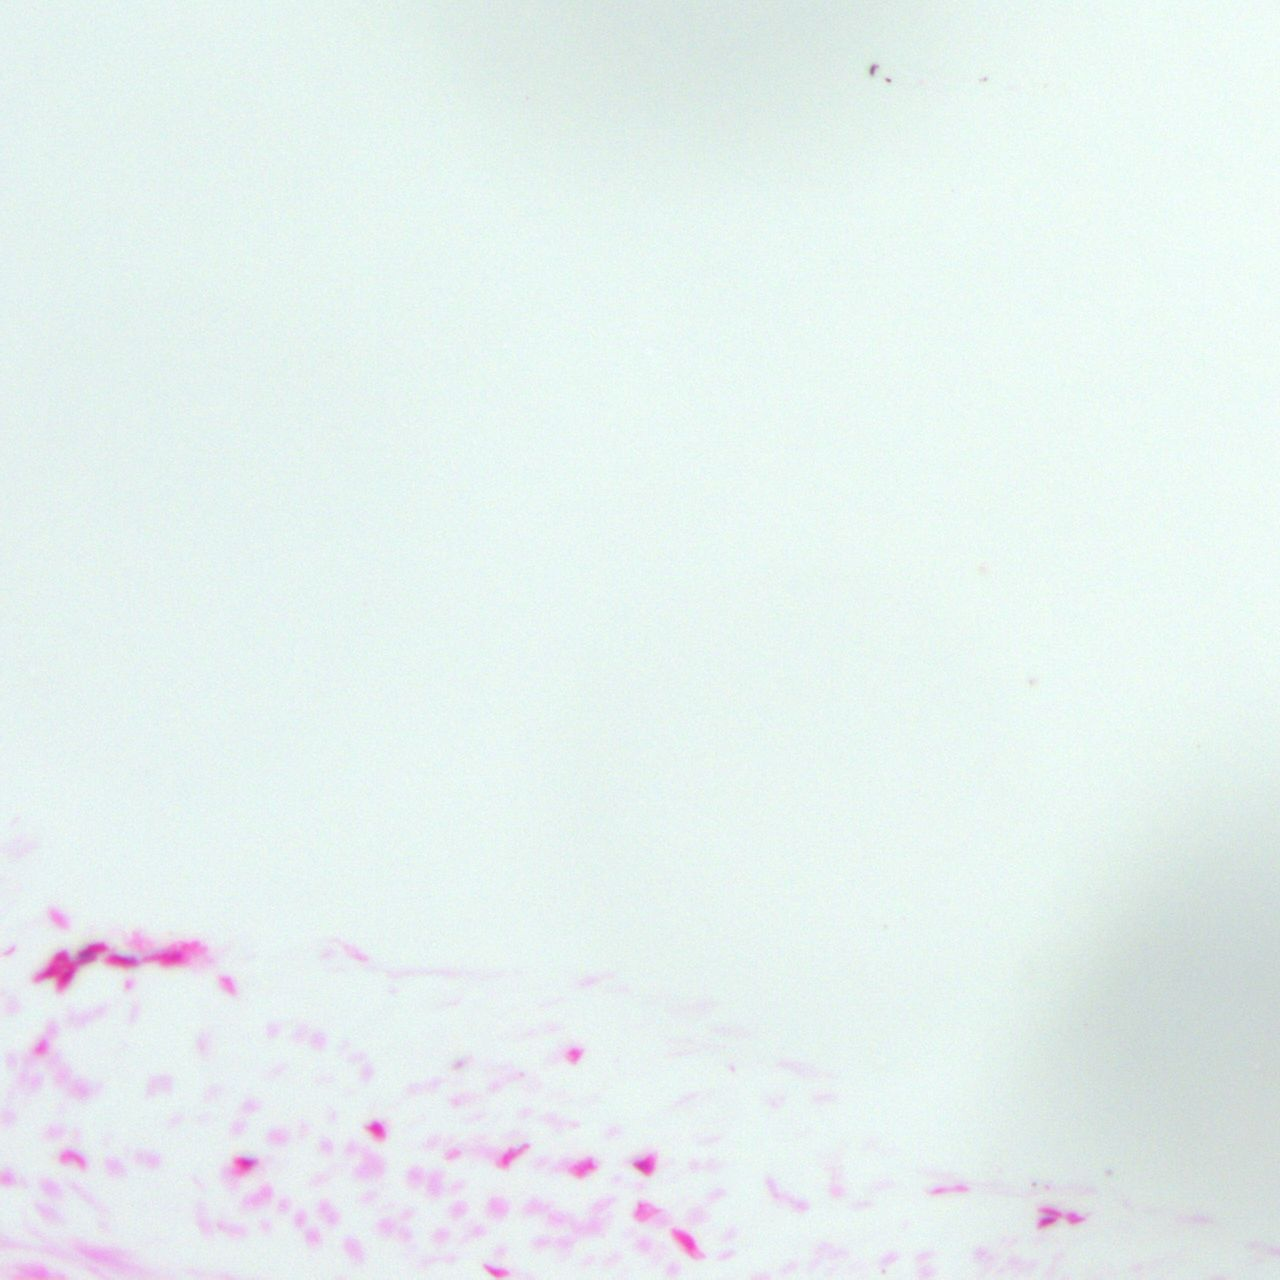dust: (867, 64, 878, 77), (978, 76, 988, 83), (1105, 1169, 1113, 1176), (885, 77, 892, 83), (1029, 1182, 1037, 1186)
nucleus-FG: (496, 1141, 524, 1169), (55, 967, 75, 992), (31, 966, 58, 983), (79, 942, 108, 957), (107, 954, 135, 966), (158, 952, 184, 963), (483, 1262, 499, 1279), (235, 1155, 257, 1166), (370, 1121, 384, 1137), (1037, 1216, 1056, 1227), (568, 1048, 581, 1063), (632, 1161, 650, 1171), (1041, 1207, 1059, 1216), (931, 1187, 946, 1195), (585, 1159, 594, 1171), (1070, 1215, 1082, 1224)
